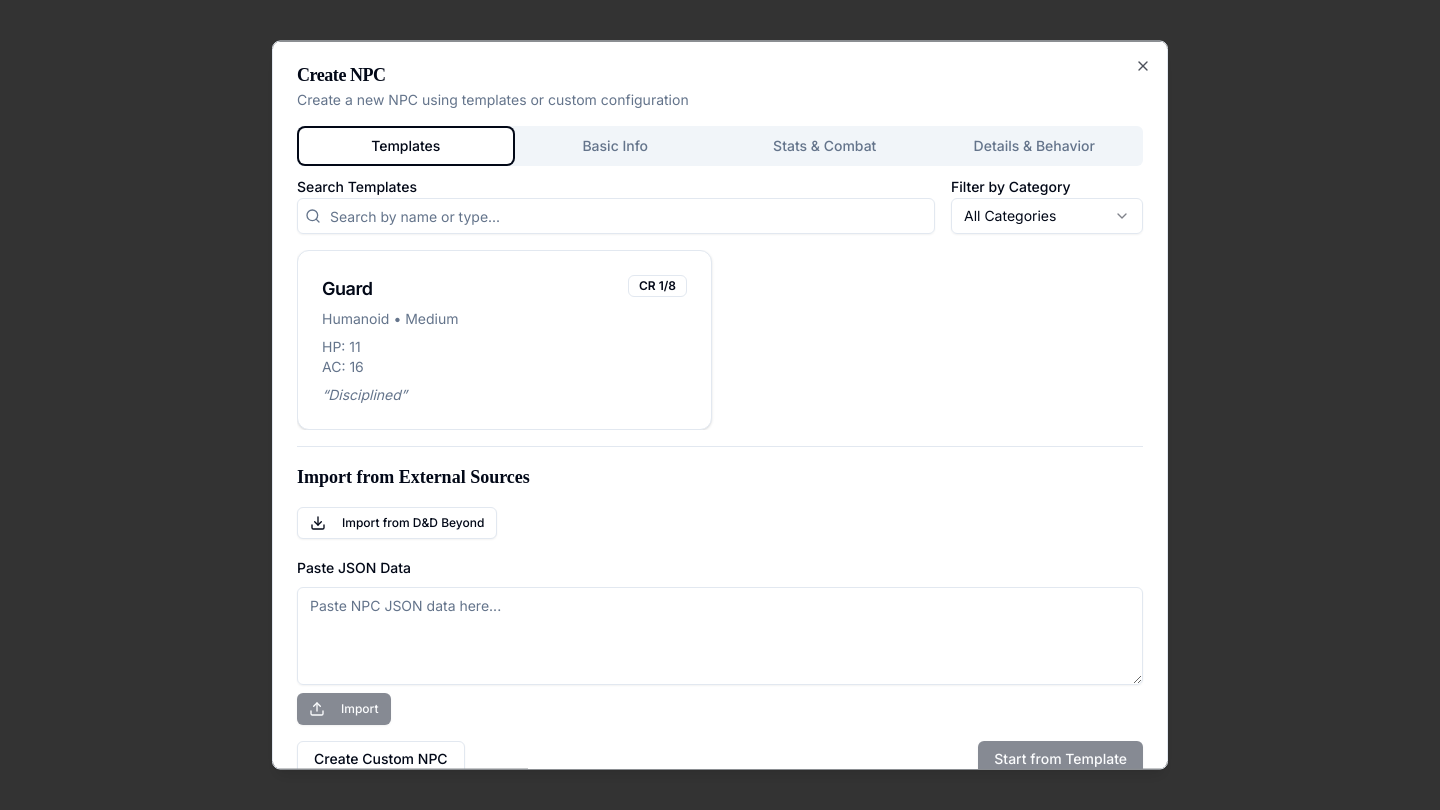
Test: NPCCreationForm › Stats Tab › shows stats form when tab is clicked
The image size is (1440, 810).
Click the tab "Stats & Combat". click: (825, 146)
box: [720,130,930,162]
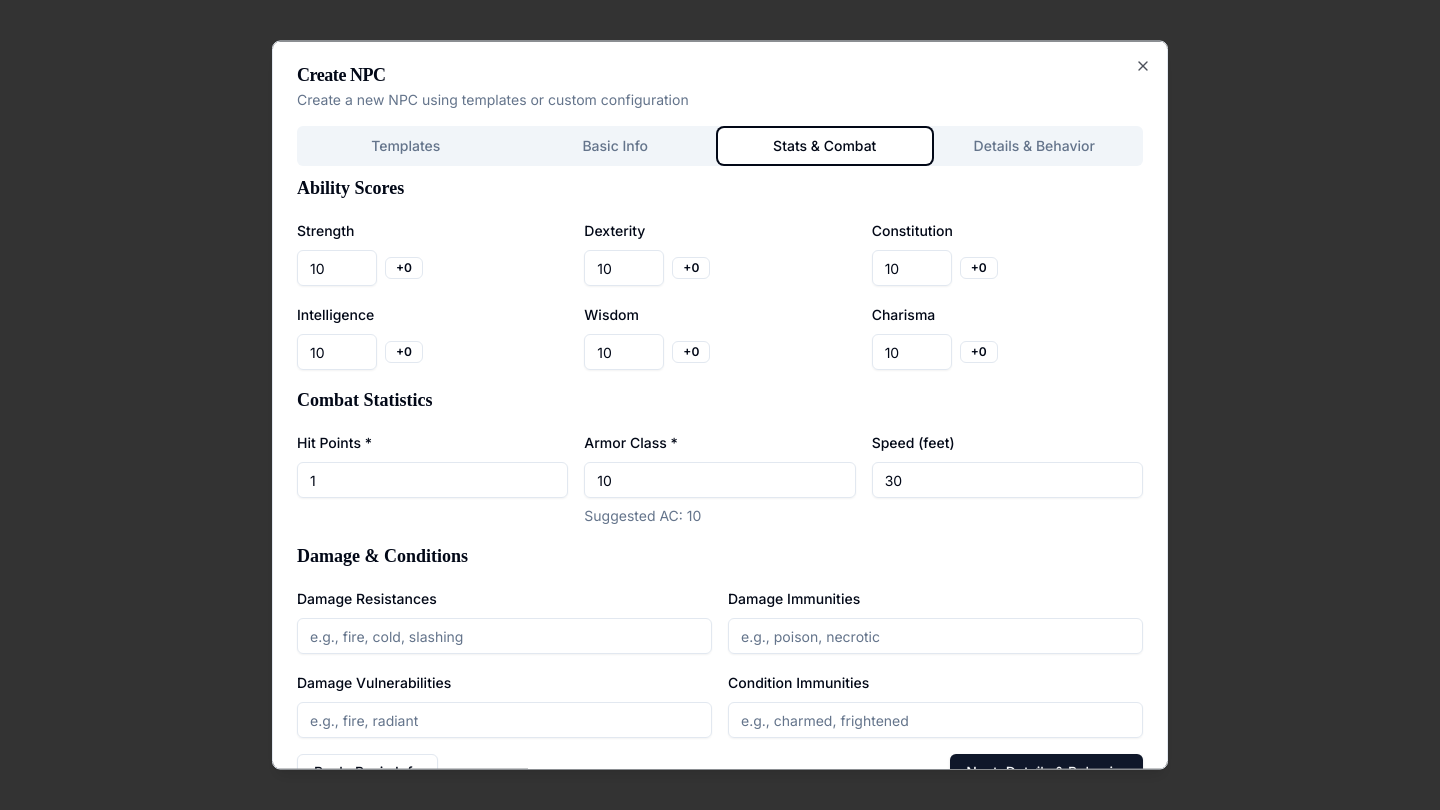
Expected: the number field labelled "strength" is shown, [297,250,377,286]
Expected: the number field labelled "Hit Points *" is shown, [297,462,568,498]
Expected: the number field labelled "Armor Class *" is shown, [584,462,856,498]
